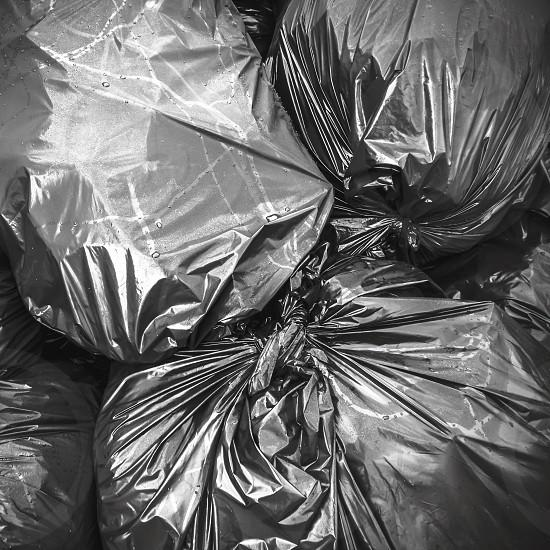Garbage: (103, 297, 550, 550), (7, 9, 326, 347), (243, 0, 547, 265), (0, 320, 99, 550)
